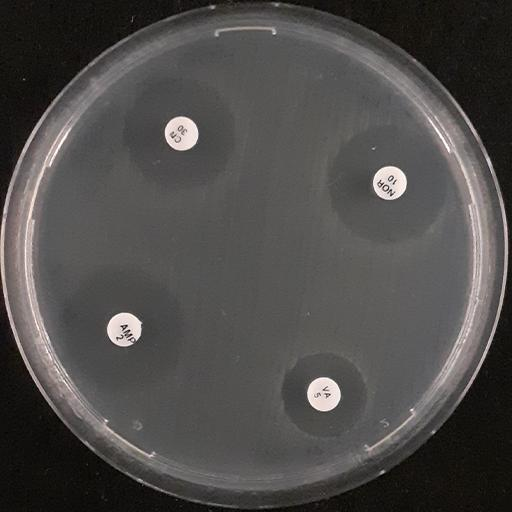disc: (165, 116, 199, 152), (107, 313, 142, 347), (307, 377, 341, 412), (373, 166, 407, 200)
